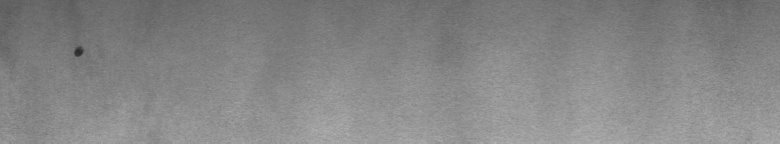fi: (68, 39, 88, 64)
